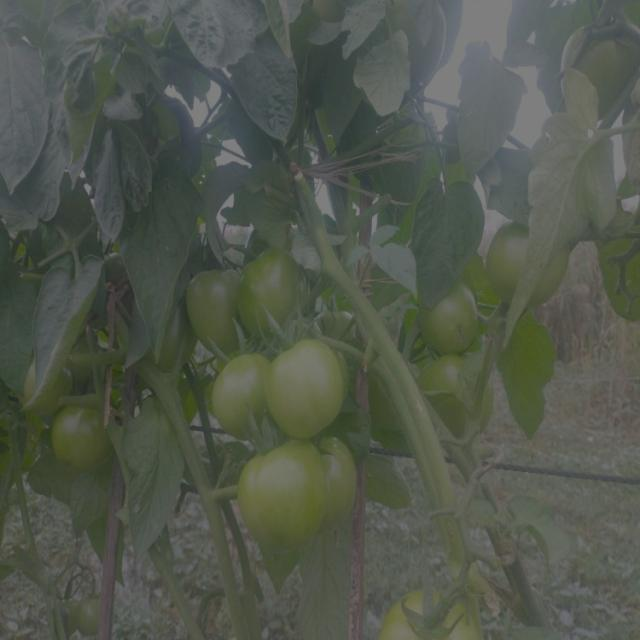tomato: (239, 442, 321, 549), (273, 339, 348, 440), (489, 218, 573, 306), (239, 240, 307, 334), (385, 585, 486, 640), (211, 348, 271, 434), (51, 395, 117, 469), (182, 262, 239, 342), (584, 33, 637, 108), (424, 281, 479, 352), (321, 443, 361, 521), (151, 382, 204, 434), (424, 358, 469, 401)
